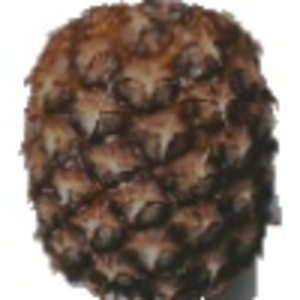abacaxi: (17, 1, 286, 291)
